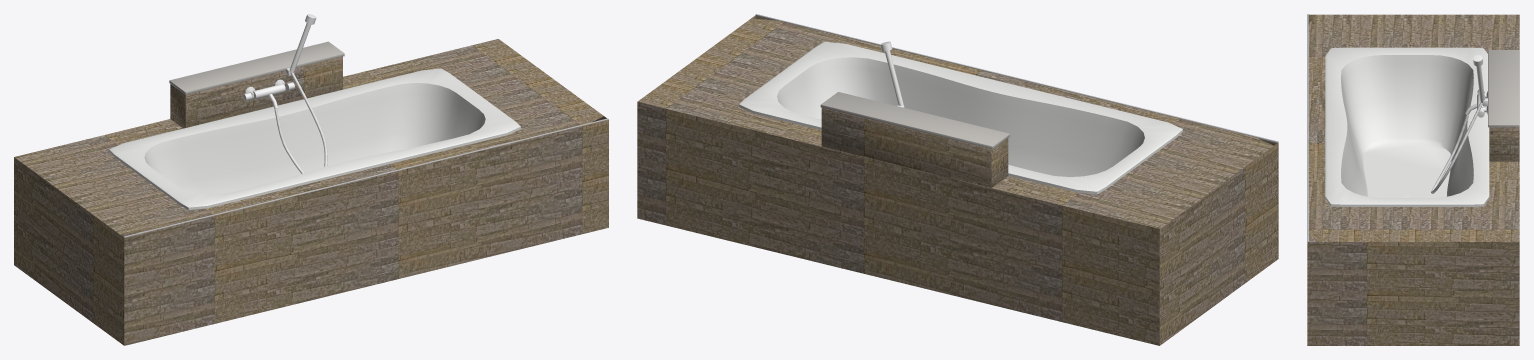
Rendered from recMdKYRIMp50QZB0.glb.
The picture shows the model from 3 angles, left to right: view 1: azimuth 30°, elevation 25°; view 2: azimuth 150°, elevation 25°; view 3: azimuth 270°, elevation 25°; orthographic projection. The views are drawn at different scales.
Parts seen in each view (by area): view 1: Baignoire_Corps; view 2: Baignoire_Corps; view 3: Baignoire_Corps.
Part boxes in pixels (x1,y1,x2,y2): Baignoire_Corps: (14,14,608,345); Baignoire_Corps: (637,14,1278,345); Baignoire_Corps: (1307,14,1519,345).
Size of the model in its own units: 2.46 by 0.9657 by 0.9701.
5 materials, 2 textured.
